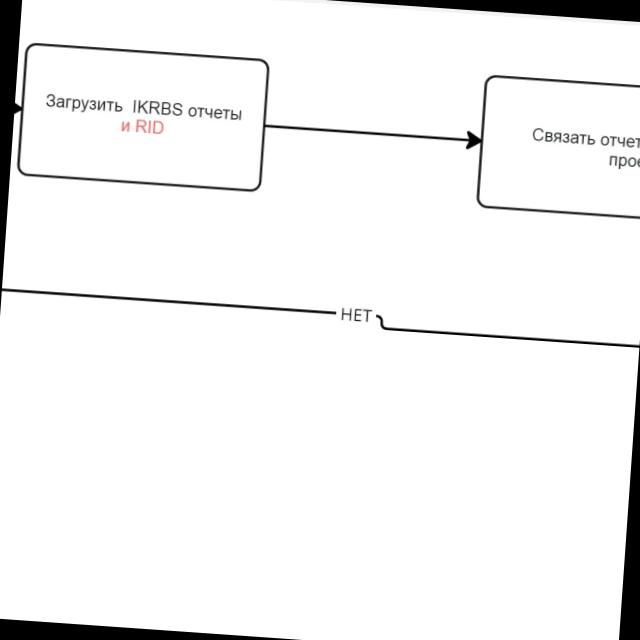arrow: (266, 110, 482, 152)
rectangle: (16, 40, 271, 192)
text_region: (339, 304, 373, 324)
